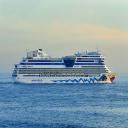cruises: (12, 44, 120, 87)
